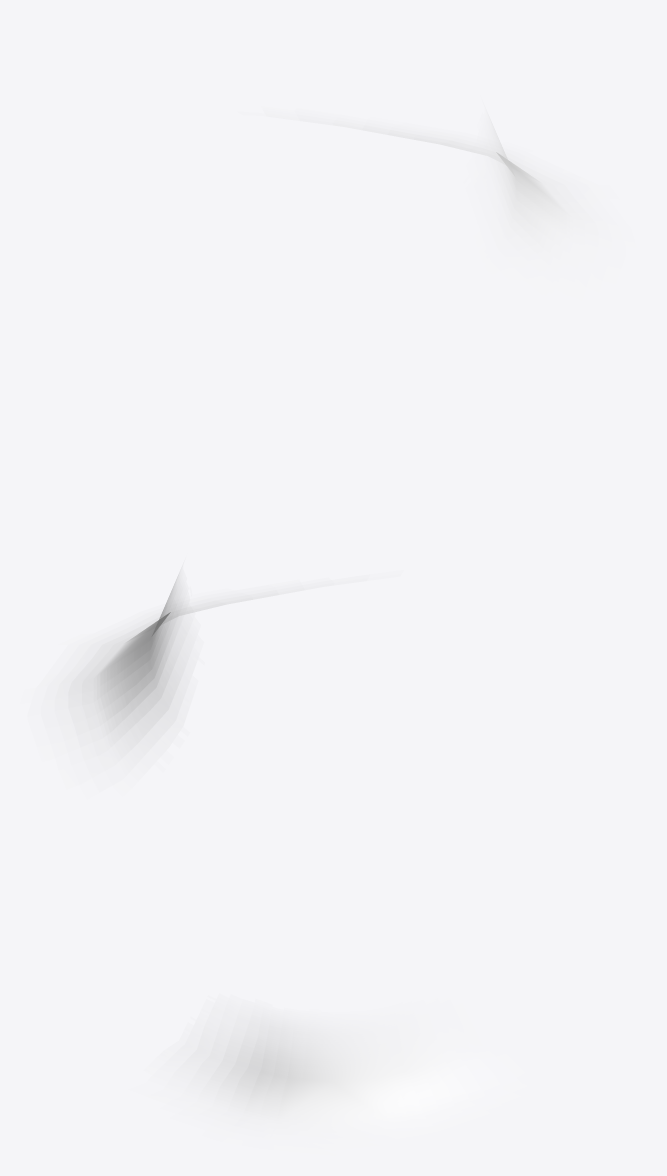
The model's file is waterfall-turtle01-3.glb.
The picture shows the model from 3 angles, top to bottom: view 1: azimuth 30°, elevation 25°; view 2: azimuth 150°, elevation 25°; view 3: azimuth 270°, elevation 25°; orthographic projection. The views are drawn at different scales.
Visible parts, largest first — view 1: waterfall04; view 2: waterfall04; view 3: waterfall04.
Boxes of the visible parts, x1,y1,x2,y2 form: waterfall04: (333,115,610,285); waterfall04: (55,575,279,760); waterfall04: (174,1014,500,1144).
Bounding box in the file's own units: 2.12 × 0.9528 × 4.83.
1 material, 1 textured.
